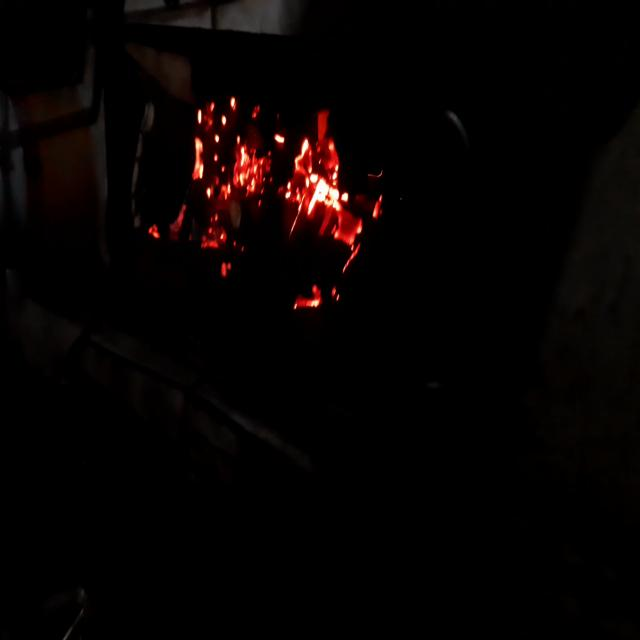Fire: (158, 60, 394, 334)
